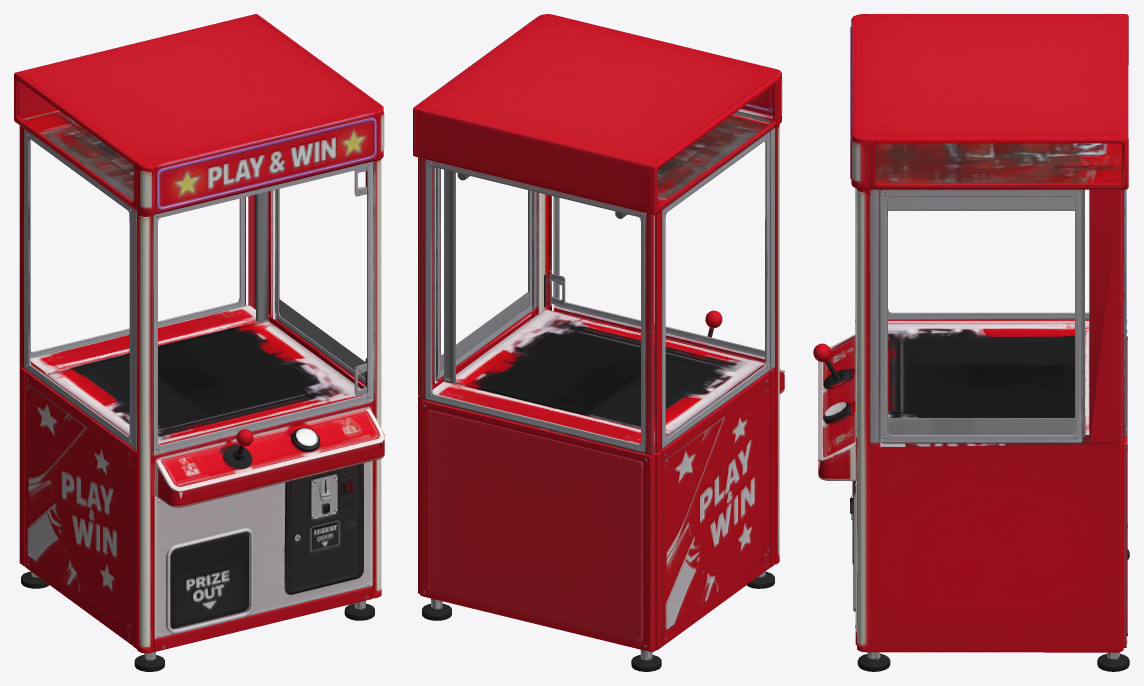
File: machine.glb
3 renders of one model, left to right at view 1: azimuth 30°, elevation 25°; view 2: azimuth 150°, elevation 25°; view 3: azimuth 270°, elevation 25°, orthographic. The views are drawn at different scales.
Visible parts, largest first — view 1: machine; view 2: machine; view 3: machine.
Boxes of the visible parts, x1=… form: machine: x1=14, y1=14, x2=384, y2=671; machine: x1=413, y1=14, x2=784, y2=671; machine: x1=813, y1=14, x2=1129, y2=671.
Bounding box in the file's own units: 0.5015 × 0.9995 × 0.5347.
1 material, 1 textured.
